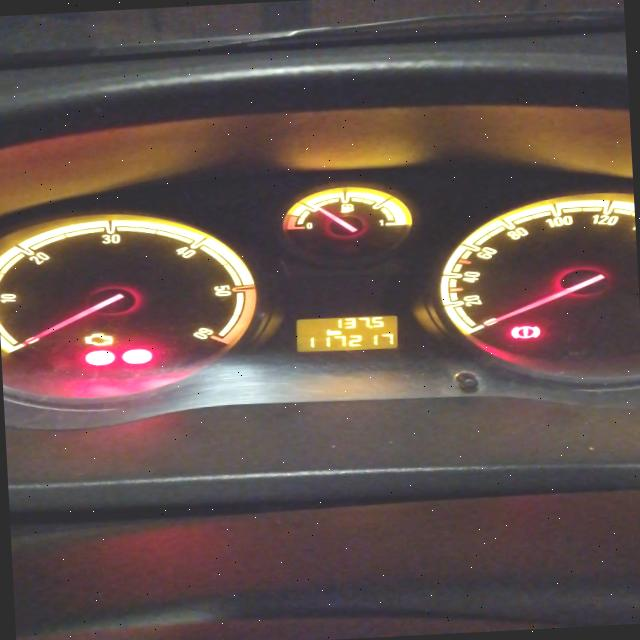odometer: (292, 312, 400, 354)
